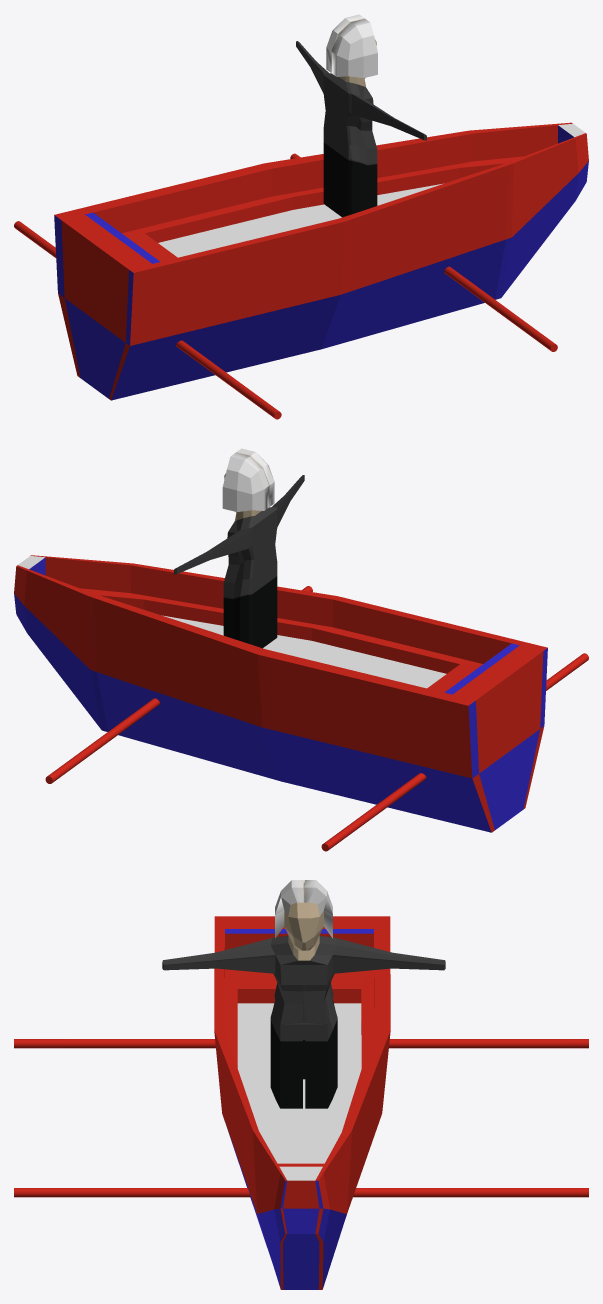
File: row boat with character.fbx
The picture shows the model from 3 angles, top to bottom: view 1: azimuth 30°, elevation 25°; view 2: azimuth 150°, elevation 25°; view 3: azimuth 270°, elevation 25°; orthographic projection. The views are drawn at different scales.
Visible parts, largest first — view 1: Cube, Cube.001; view 2: Cube, Cube.001; view 3: Cube, Cube.001.
Boxes of the visible parts, x1,y1,x2,y2 form: Cube: (14, 122, 588, 419); Cube.001: (296, 14, 426, 217); Cube: (14, 555, 588, 851); Cube.001: (174, 448, 304, 648); Cube: (14, 916, 588, 1289); Cube.001: (162, 880, 445, 1108).
Size of the model in its own units: 705 by 420 by 655.
